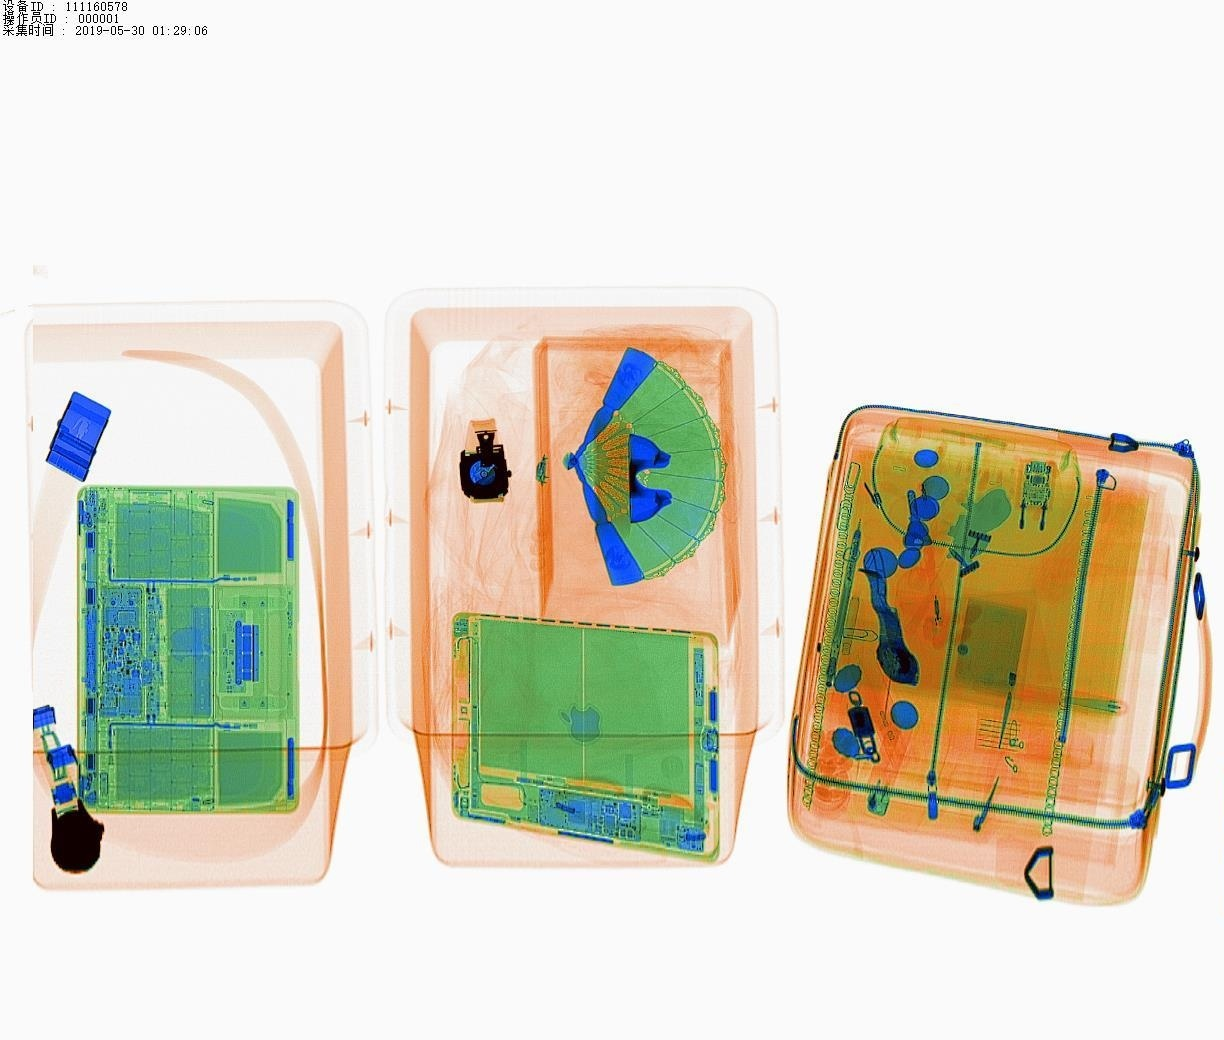NonmetallicFire: (845, 718, 941, 828)
